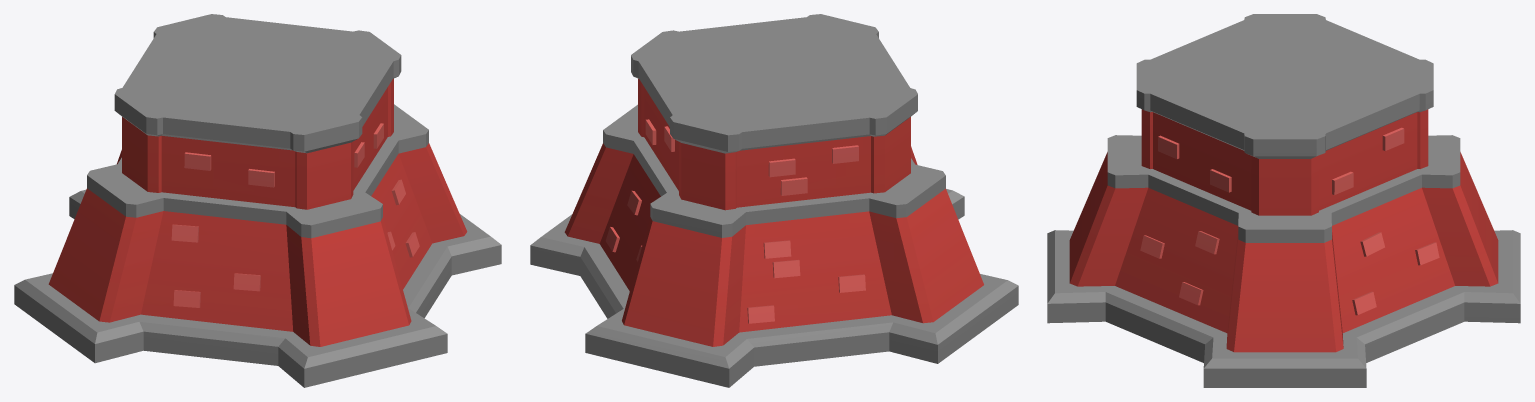
The model's file is MayorStatue_Base_D.fbx.
The picture shows the model from 3 angles, left to right: view 1: azimuth 30°, elevation 25°; view 2: azimuth 150°, elevation 25°; view 3: azimuth 270°, elevation 25°; orthographic projection.
Visible parts, largest first — view 1: MayorStatue_Base_D; view 2: MayorStatue_Base_D; view 3: MayorStatue_Base_D.
Boxes of the visible parts, left/top/right/bottom form: MayorStatue_Base_D: left=14, top=14, right=501, bottom=387; MayorStatue_Base_D: left=530, top=14, right=1018, bottom=387; MayorStatue_Base_D: left=1047, top=14, right=1520, bottom=387.
Size of the model in its own units: 1144 by 563 by 1144.
